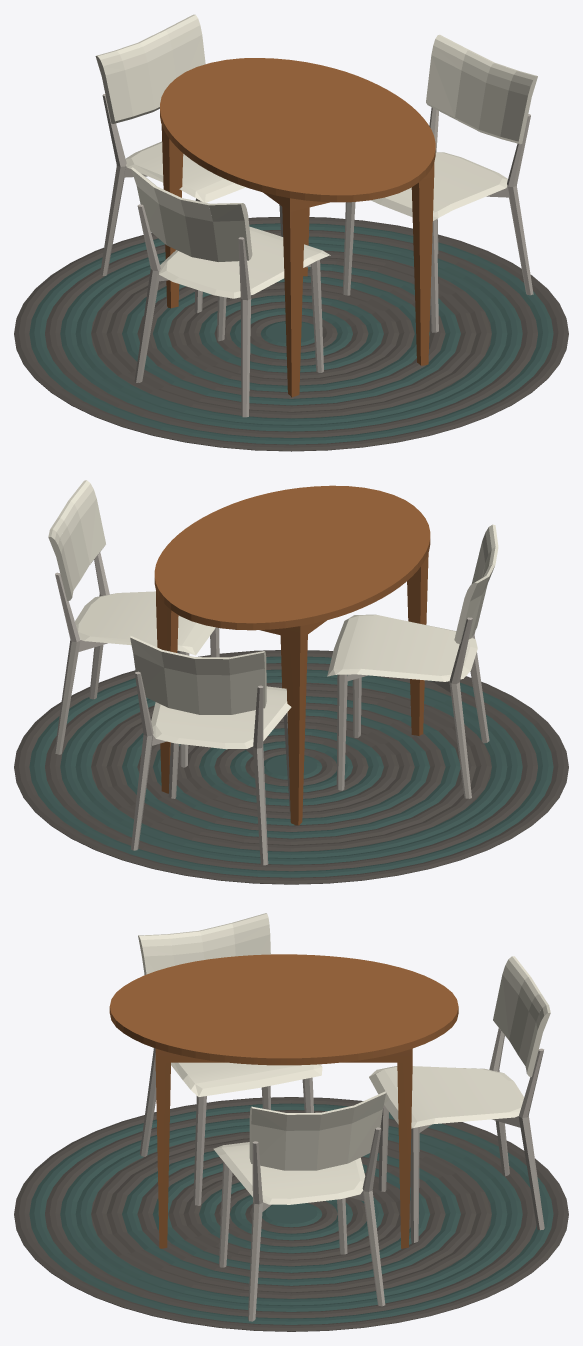
The model's file is i_hate_this.glb.
3 views of the same model, one above another, from view 1: azimuth 30°, elevation 25°; view 2: azimuth 150°, elevation 25°; view 3: azimuth 270°, elevation 25° (orthographic).
Visible parts, largest first — view 1: Node; view 2: Node; view 3: Node.
Boxes of the visible parts, x1=… form: Node: x1=14, y1=14, x2=568, y2=451; Node: x1=14, y1=480, x2=568, y2=884; Node: x1=14, y1=913, x2=568, y2=1331.
Bounding box in the file's own units: 72 × 31.16 × 72.
